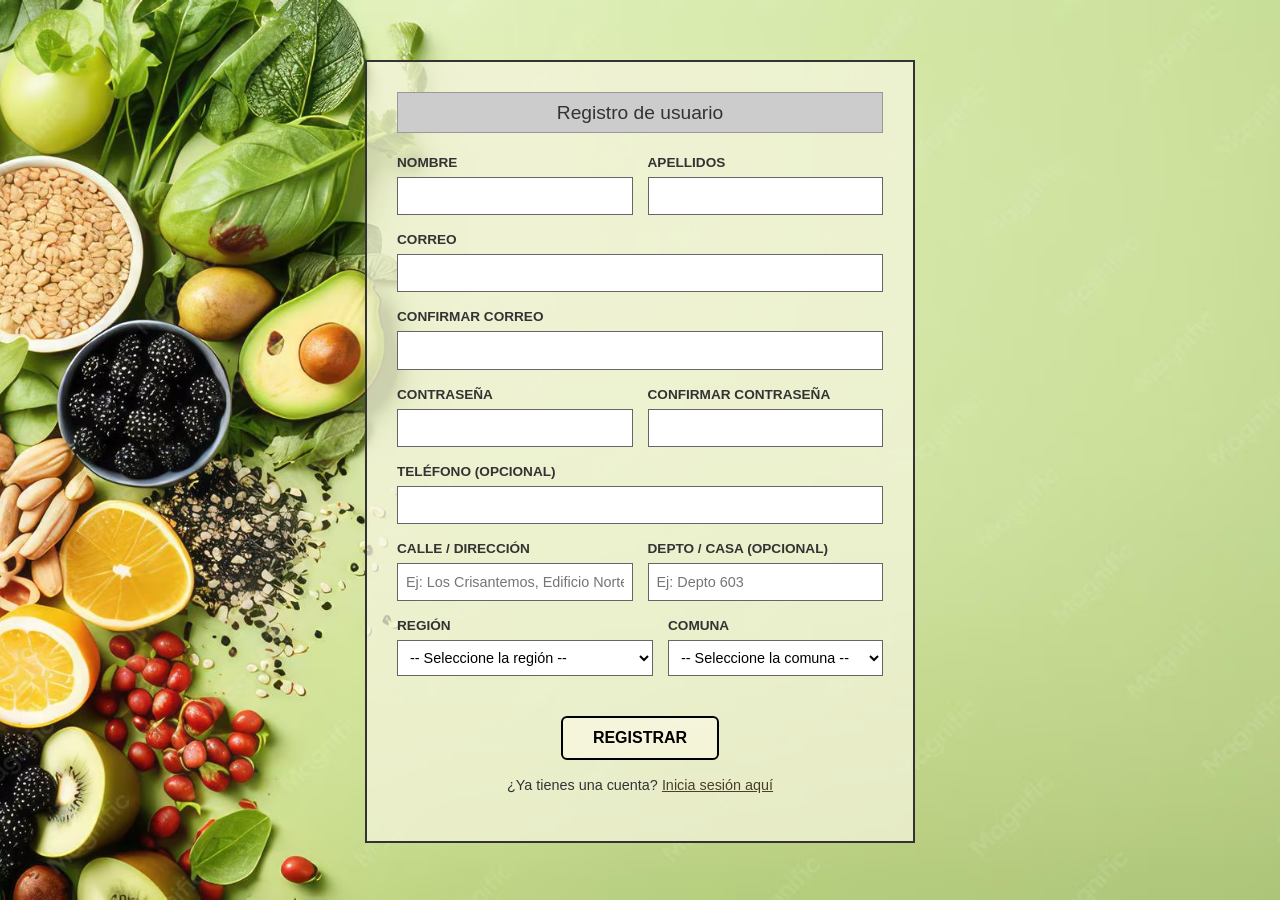
Test: Registro (validaciones) › muestra error si los correos no coinciden
The width and height of the screenshot is (1280, 900).
Type "Ana" into the field labelled "NOMBRE" at (515, 196), box [397,177,632,215]
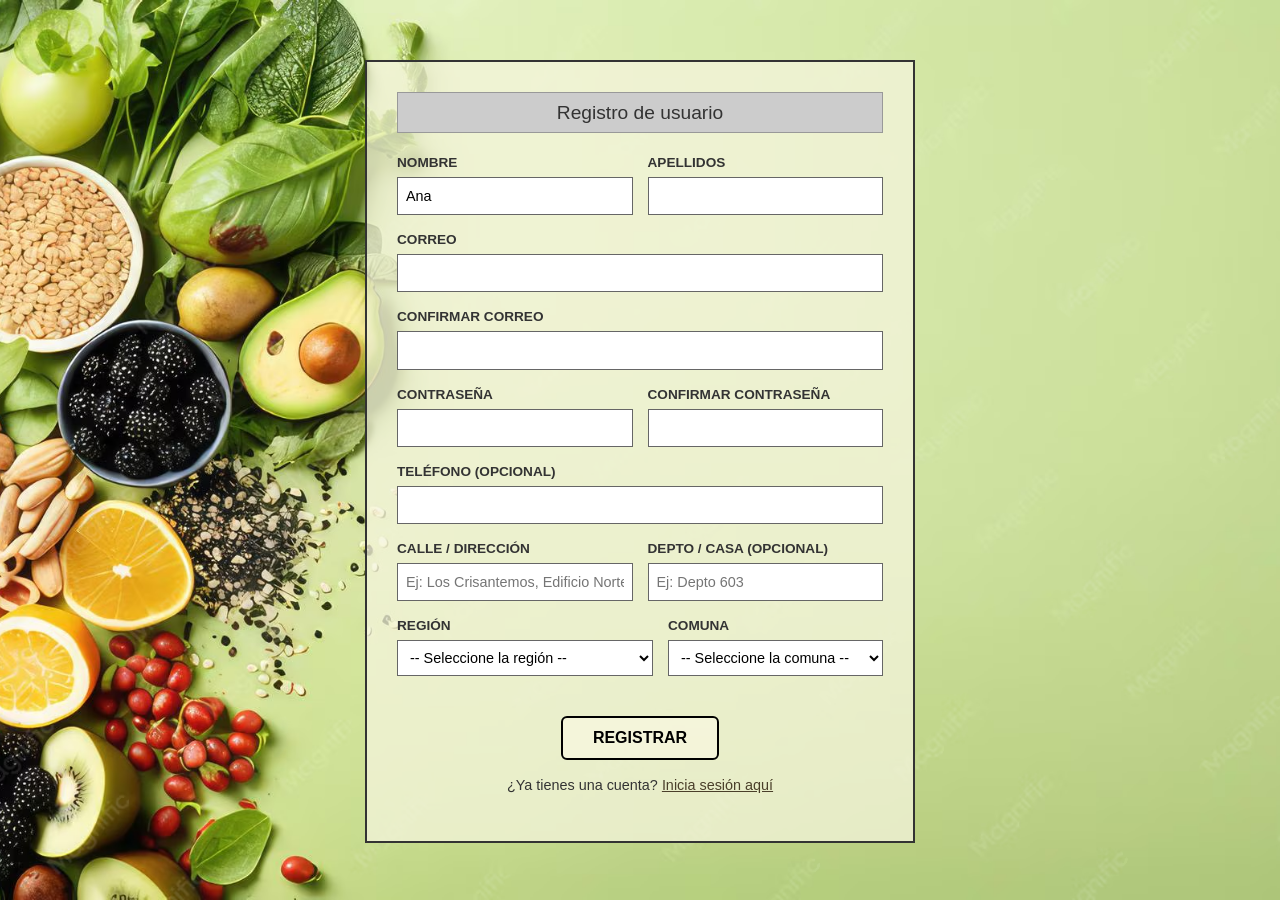
Type "ana@duoc.cl" into the field labelled "CORREO" at (640, 273), box [397,254,883,292]
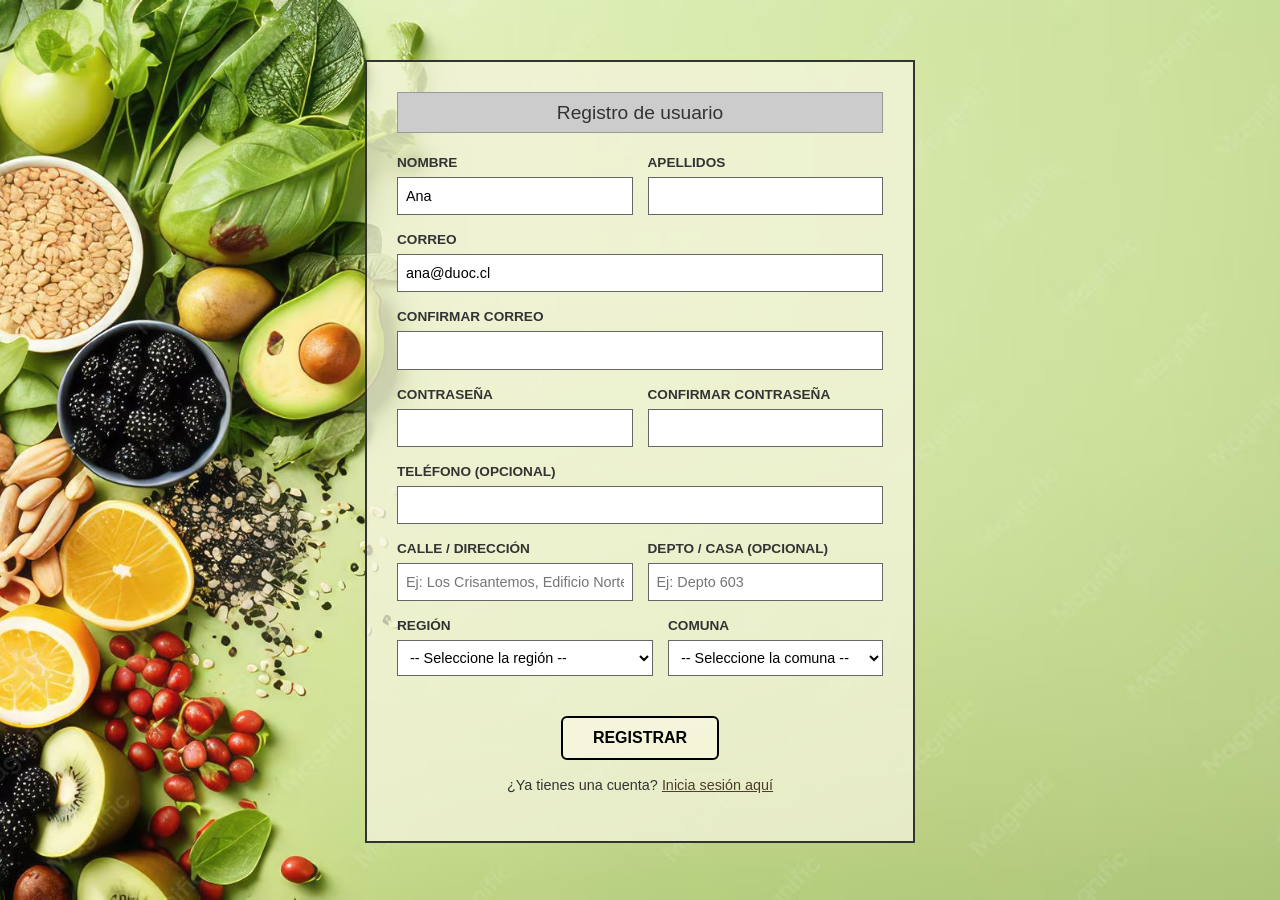
Type "otra@duoc.cl" into the field labelled "CONFIRMAR CORREO" at (640, 350), box [397,331,883,370]
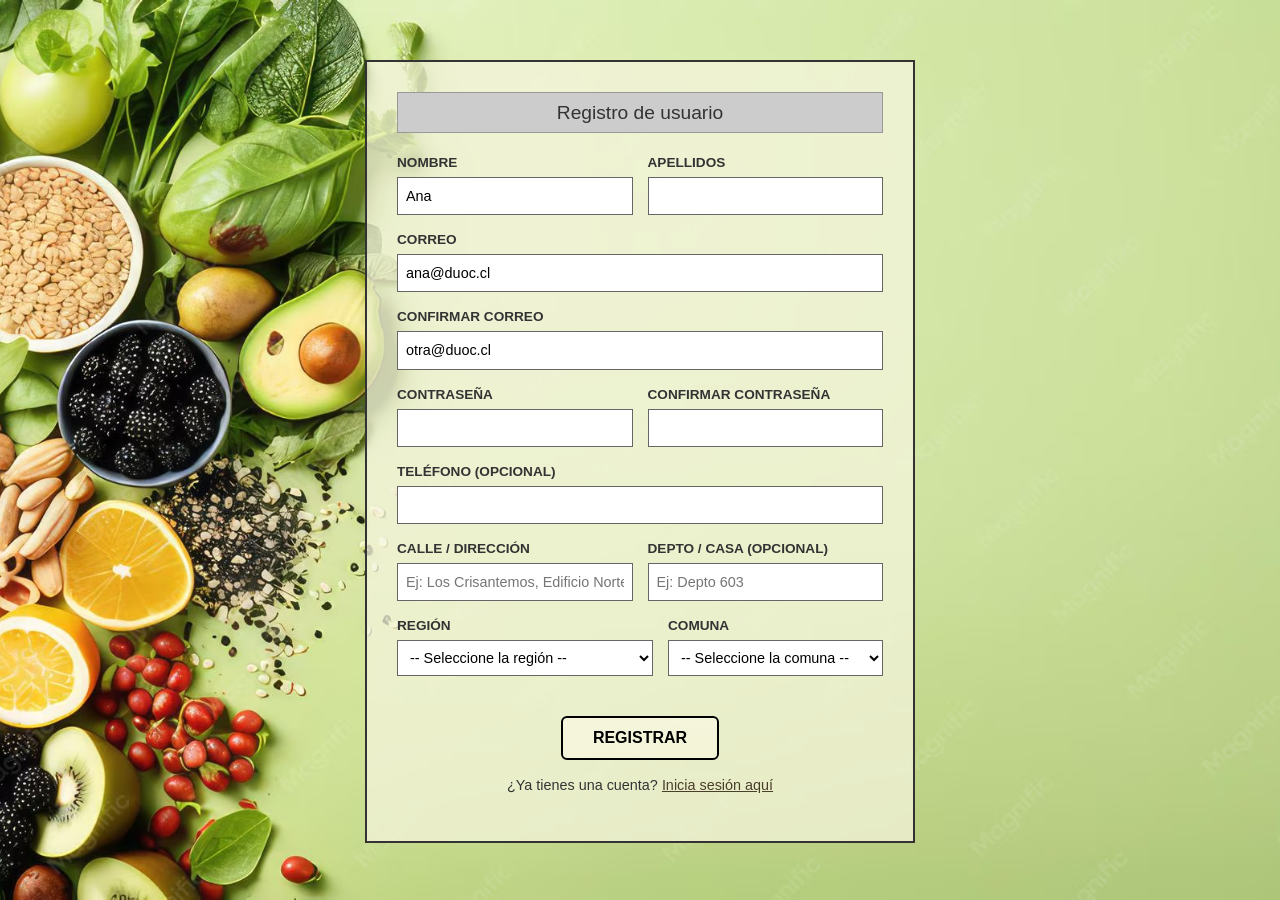
Submit the form with id "form-registro", box [397,153,883,795]
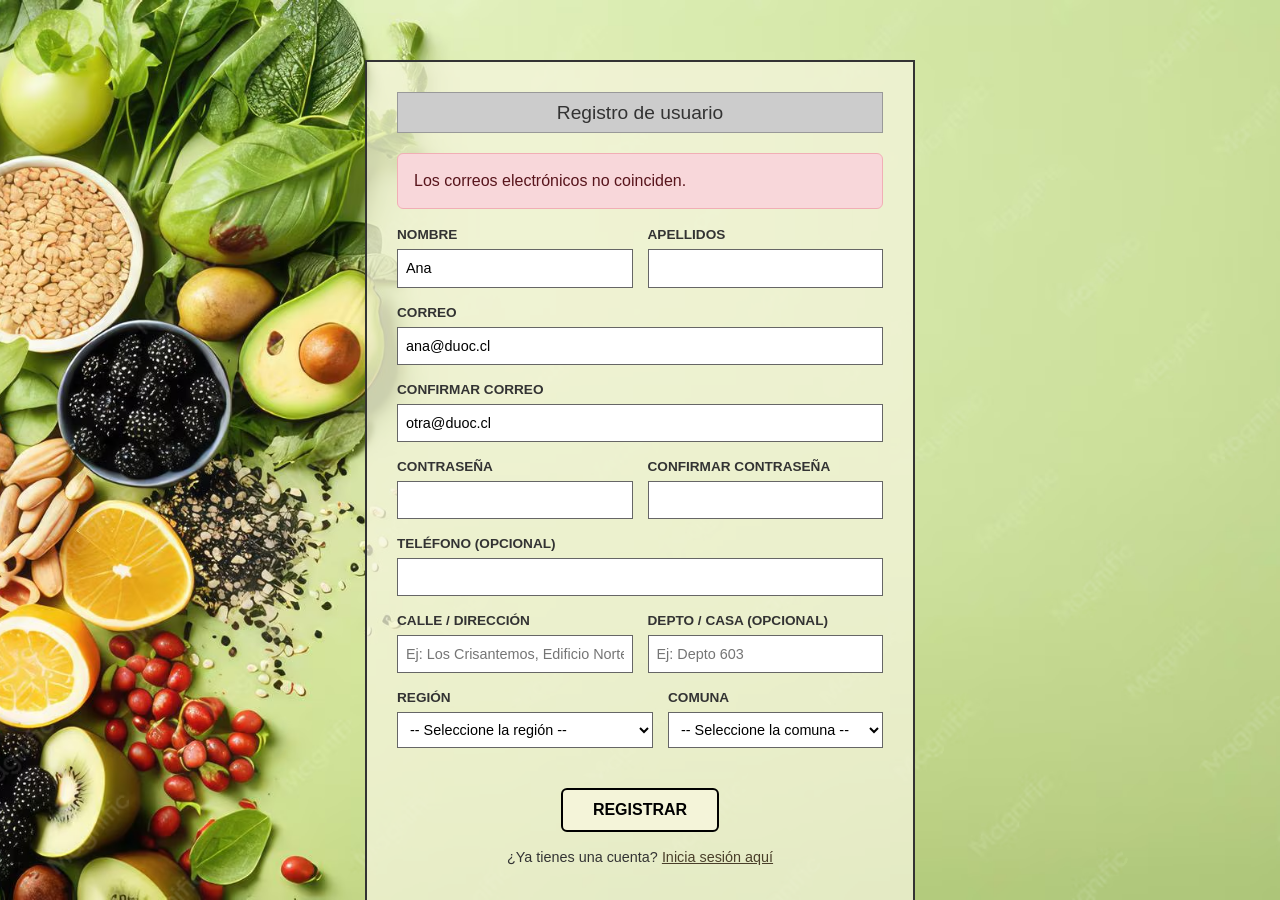
Now the message reads "Los correos electrónicos no coinciden.", box [414,172,686,189]
